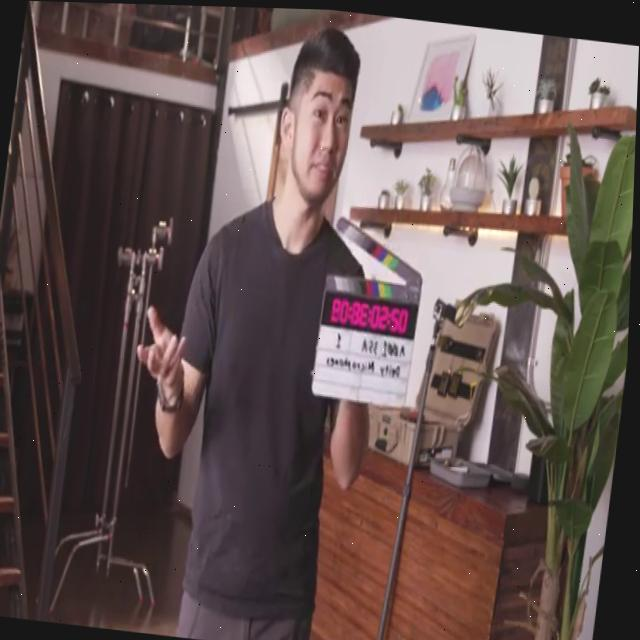Clapperboard: (311, 217, 421, 408)
